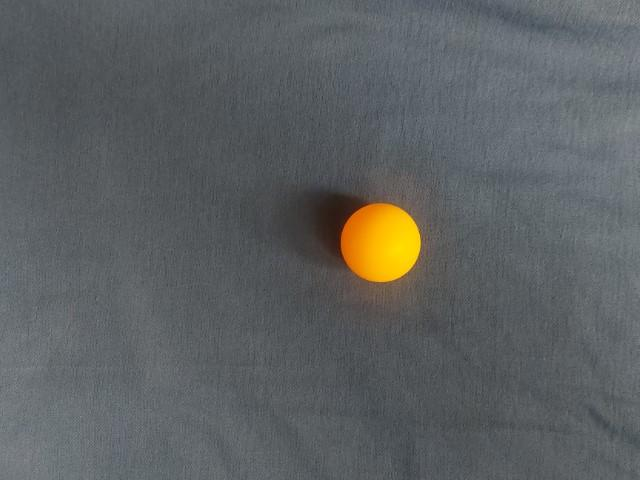oball: (335, 199, 425, 288)
